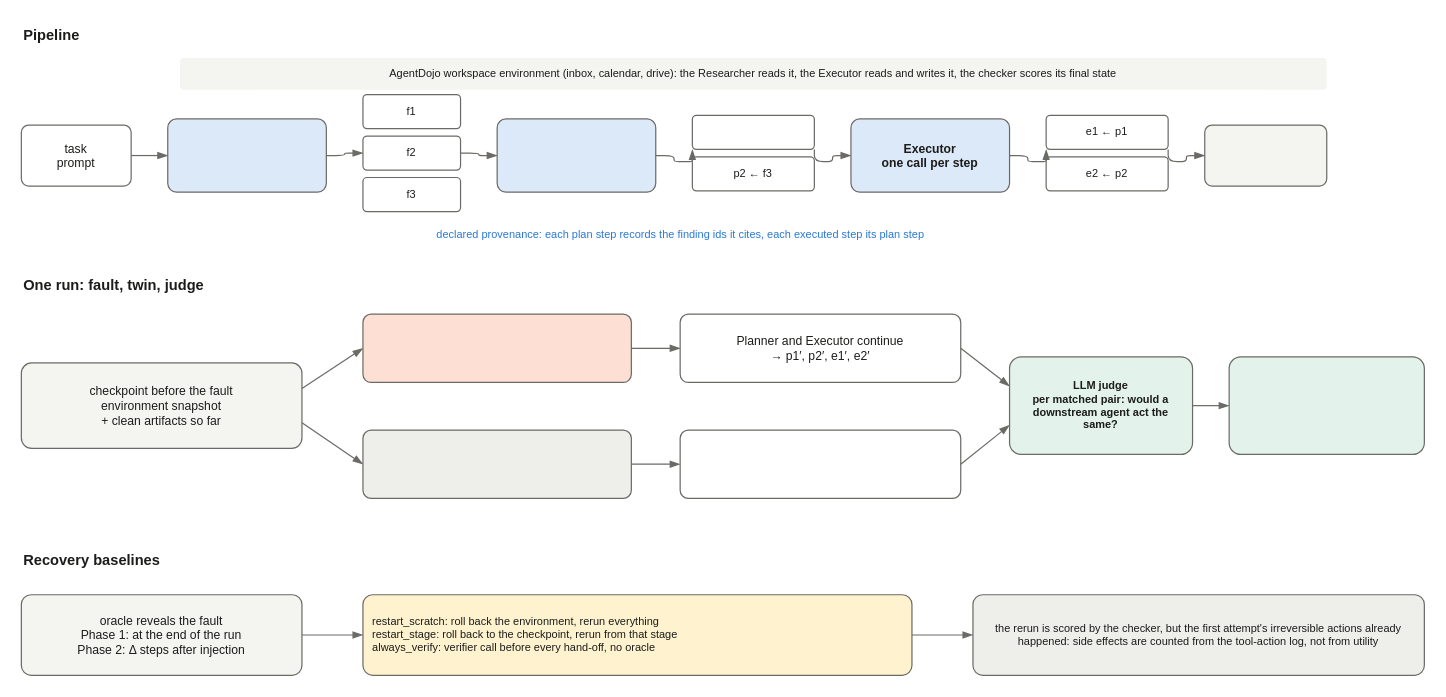
This 1446x697 diagram has some shape labels left out. The shapes that lost their labels are listed below. From the top down, each one's centre as x and y in pixels, then its label:
At point (752, 131): "p1 ← f1, f2".
At point (246, 155): "Researcher read-only tools".
At point (576, 155): "Planner cites findings".
At point (1265, 155): "checker utility".
At point (496, 347): "fault injected into f2 one of 12 frozen templates".
At point (1326, 405): "changed artifacts vs. declared descendants → under-taint, over-taint, ignored".
At point (496, 463): "twin: f2 left intact".
At point (820, 463): "Planner and Executor continue → p1, p2, e1, e2".
